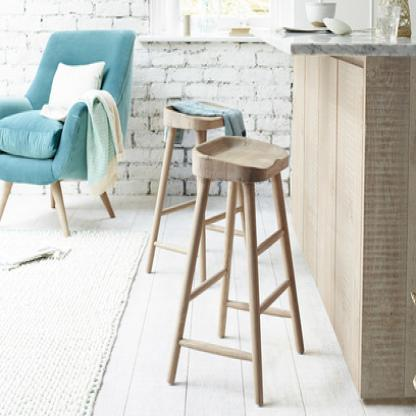chair: (174, 137, 295, 404), (0, 20, 127, 233), (144, 84, 232, 275)
table: (238, 19, 416, 411)
